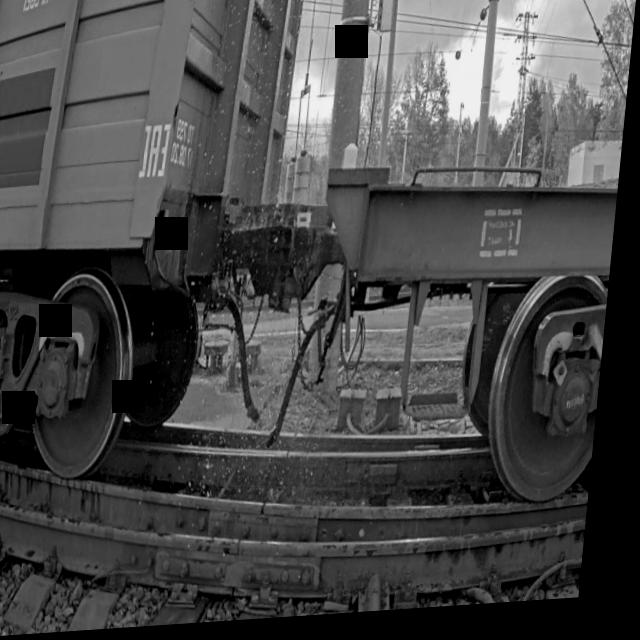flatcar: (295, 139, 627, 535)
gondola: (0, 0, 322, 501)
